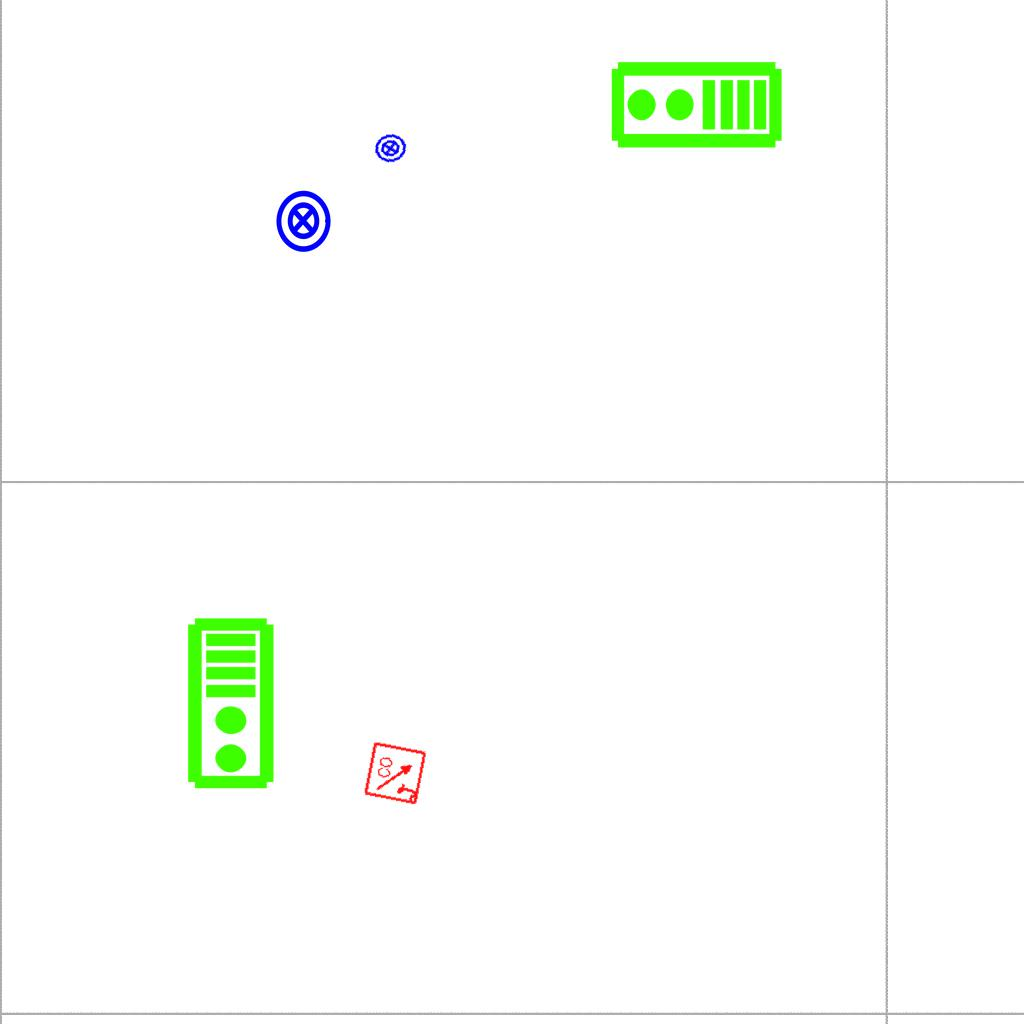Gegensprechanlage_mit_Video: (185, 616, 280, 792), (608, 59, 784, 154)
ROA_Rauchmelder_optisch_mit_Signalgeber_(Sockelsirene): (363, 740, 429, 806)
Taster_beleuchtet: (270, 188, 336, 254), (371, 129, 410, 168)
